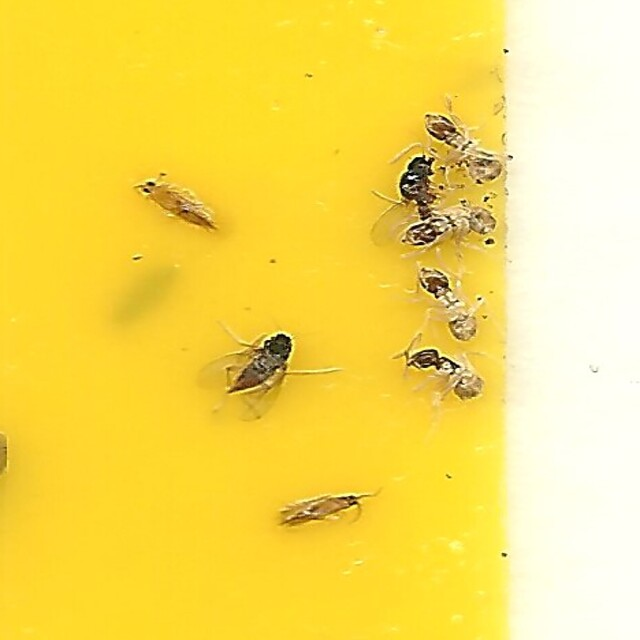Brachycera: (366, 154, 439, 242)
Hymenoptera: (406, 265, 490, 348), (425, 111, 503, 186), (397, 347, 485, 404), (405, 204, 499, 256)
Trichoptera: (137, 171, 220, 239), (275, 488, 377, 529)
